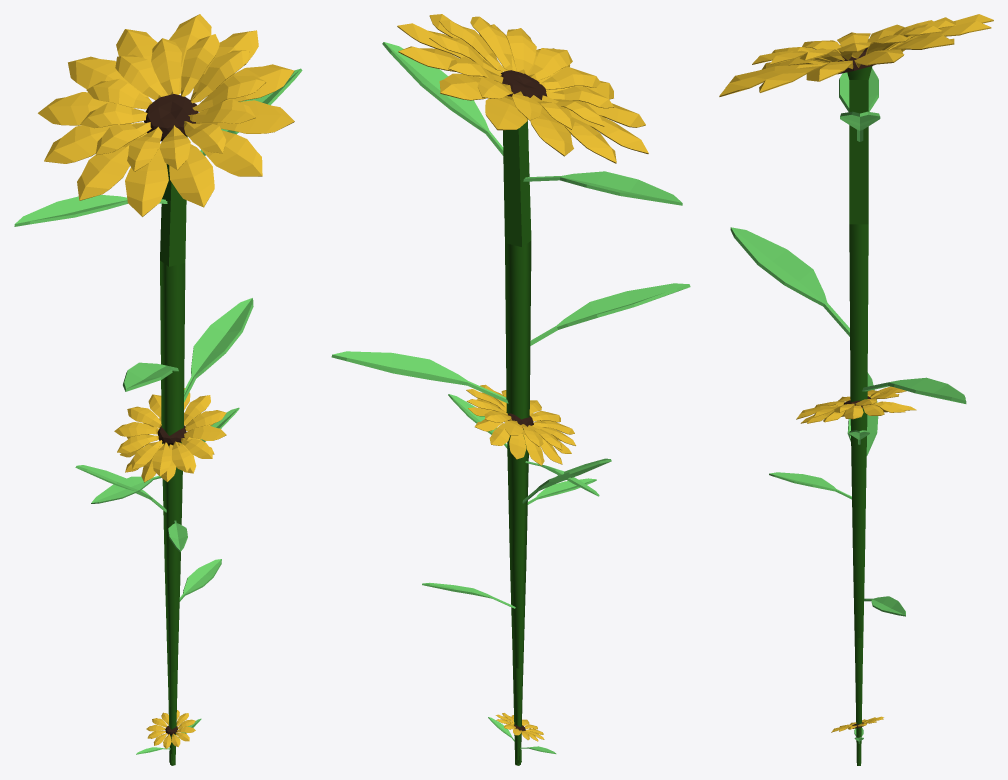
File: LD_New_Flower.fbx
3 renders of one model, left to right at view 1: azimuth 30°, elevation 25°; view 2: azimuth 150°, elevation 25°; view 3: azimuth 270°, elevation 25°, orthographic. The views are drawn at different scales.
Parts seen in each view (by area): view 1: Plane.007, Plane.014, Flower Large Stalk, Plane.002, Leaf7, Leaf9, Flower center.002, Plane.012, Leaf8, Plane.008, Leaf5, leaf2 (+2 smaller); view 2: Flower Large Stalk, Plane.014, Plane.007, Plane.002, Leaf7, Leaf10, Leaf9, Leaf8, Plane.008, Flower center.002, Leaf4, Flower Medium Stalk; view 3: Flower Large Stalk, Plane.007, Plane.014, Leaf8, Leaf7, Plane.008, Plane.002, Flower Medium Stalk, Leaf9, leaf3, Leaf10, leaf2.
Boxes of the visible parts, x1,y1,x2,y2 form: Plane.007: (38, 14, 294, 216); Plane.014: (80, 34, 266, 171); Flower Large Stalk: (160, 136, 187, 707); Plane.002: (114, 388, 226, 476); Leaf7: (184, 298, 253, 401); Leaf9: (14, 195, 167, 226); Flower center.002: (144, 94, 198, 141); Plane.012: (146, 710, 195, 748); Leaf8: (123, 362, 178, 391); Plane.008: (120, 412, 214, 482); Leaf5: (91, 476, 161, 503); leaf2: (179, 559, 221, 601); Flower Large Stalk: (503, 119, 531, 705); Plane.014: (429, 16, 614, 129); Plane.007: (397, 14, 648, 163); Plane.002: (466, 384, 576, 450); Leaf7: (331, 351, 508, 403); Leaf10: (382, 42, 503, 155); Leaf9: (523, 171, 682, 205); Leaf8: (530, 283, 690, 345); Plane.008: (468, 398, 571, 465); Flower center.002: (500, 70, 547, 99); Leaf4: (522, 458, 611, 503); Flower Medium Stalk: (512, 662, 522, 765); Flower Large Stalk: (847, 66, 872, 647); Plane.007: (719, 14, 993, 96); Plane.014: (752, 20, 955, 64); Leaf8: (730, 227, 849, 336); Leaf7: (862, 377, 966, 403); Plane.008: (800, 401, 916, 423); Plane.002: (796, 386, 906, 419); Flower Medium Stalk: (854, 638, 863, 765); Leaf9: (839, 68, 878, 111); leaf3: (769, 472, 851, 499); Leaf10: (840, 111, 880, 141); leaf2: (864, 596, 905, 616).
Size of the model in its own units: 990 by 2308 by 754.
